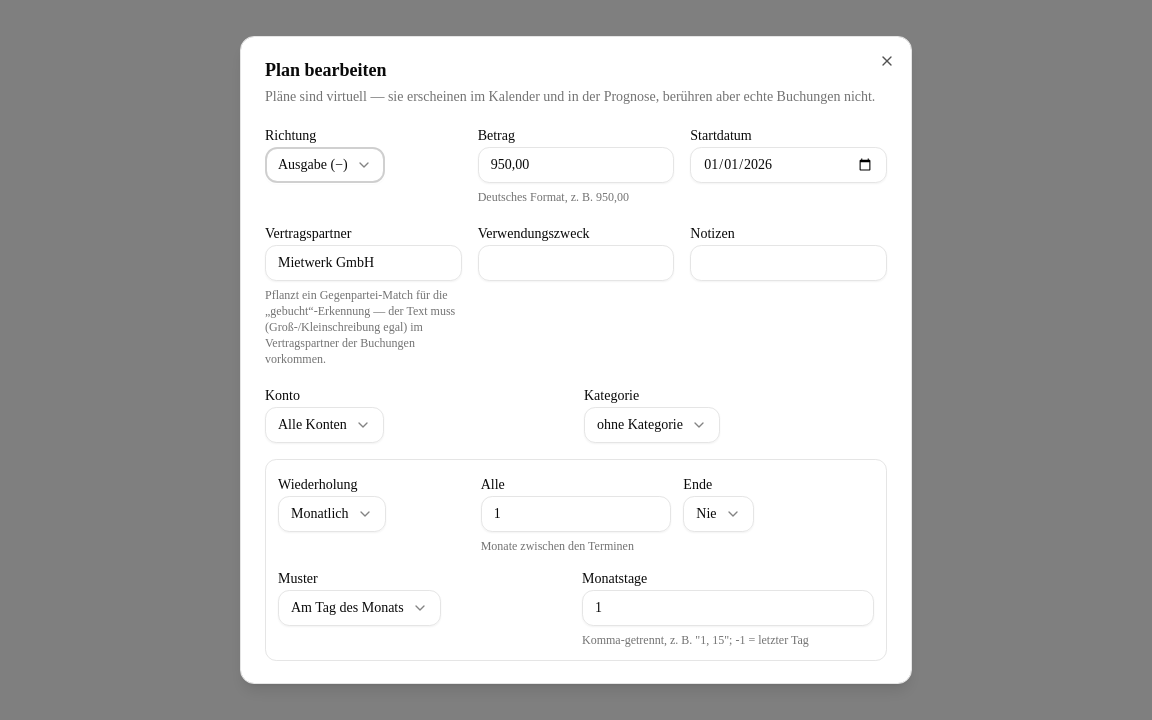
Test case: plan dialog: invalid builder input must not crash the page › monthly garbage shows the rule error and disables save instead of throwing
This screenshot has width=1152, height=720.
Replace the text in the field labelled "Monatstage Komma-getrennt, z. B. \"1, 15\"; -1 = letzter Tag" with "0" at (728, 608), box left=582, top=590, right=874, bottom=626
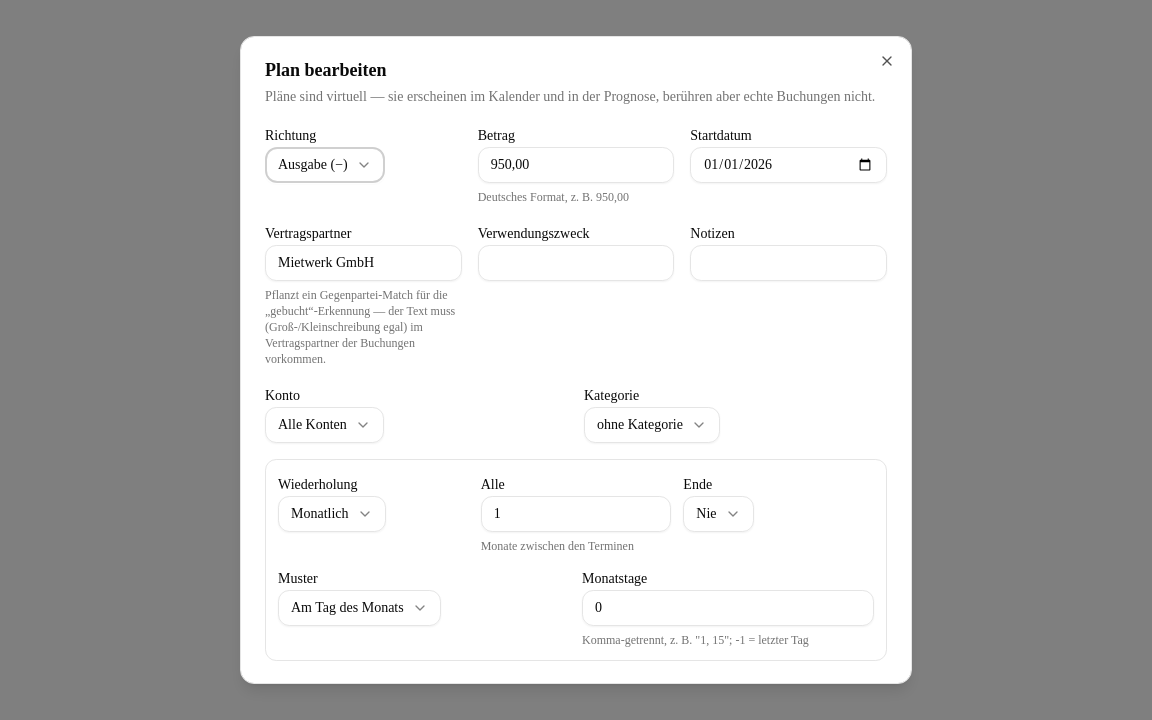
Note: repairing the input clears the error and re-enables the dialog
Replace the text in the field labelled "Monatstage Komma-getrennt, z. B. \"1, 15\"; -1 = letzter Tag" with "1, 15" at (728, 608), box left=582, top=590, right=874, bottom=626
(page scrolled)
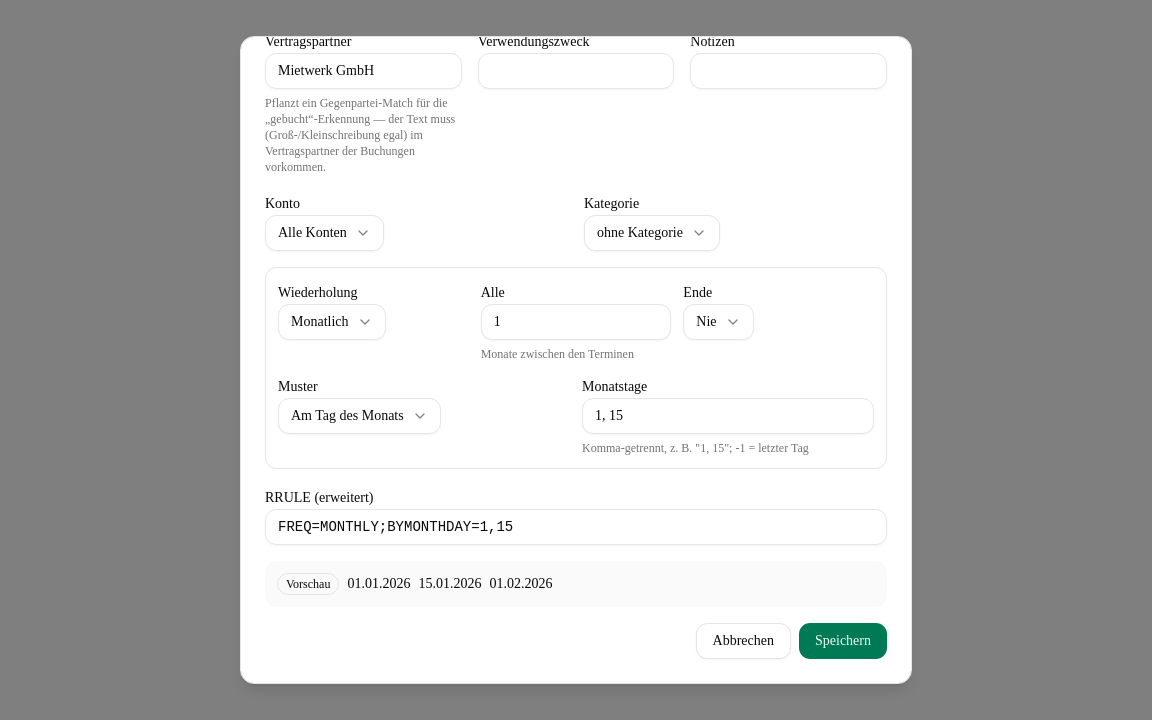
expect the button "Speichern" is enabled: met, box left=799, top=623, right=887, bottom=659
